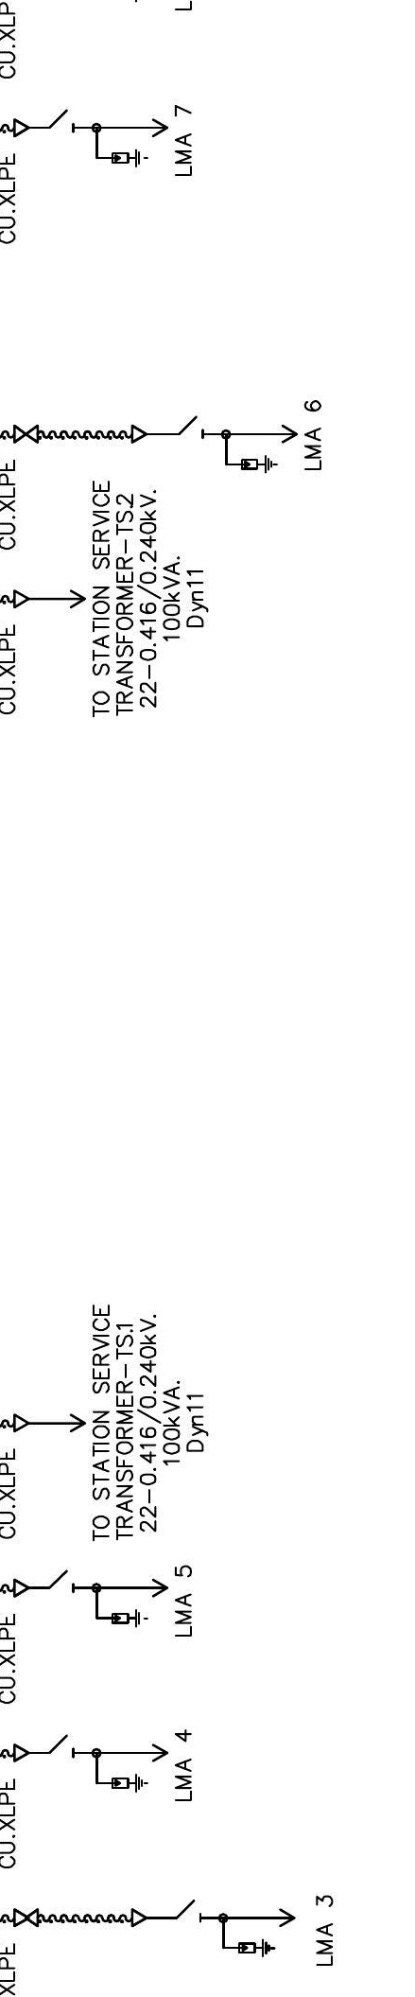22_ds_la_out: (48, 1569, 169, 1629), (176, 1899, 297, 1958), (48, 1735, 169, 1793), (177, 415, 298, 474), (48, 110, 169, 168)
terminator_single: (11, 117, 31, 139), (130, 423, 148, 444), (13, 587, 31, 609), (11, 1742, 29, 1764), (130, 1907, 148, 1928), (11, 1412, 29, 1433), (13, 1578, 29, 1598)
terminator_splicing_kits: (13, 1908, 39, 1928), (13, 424, 39, 444)
